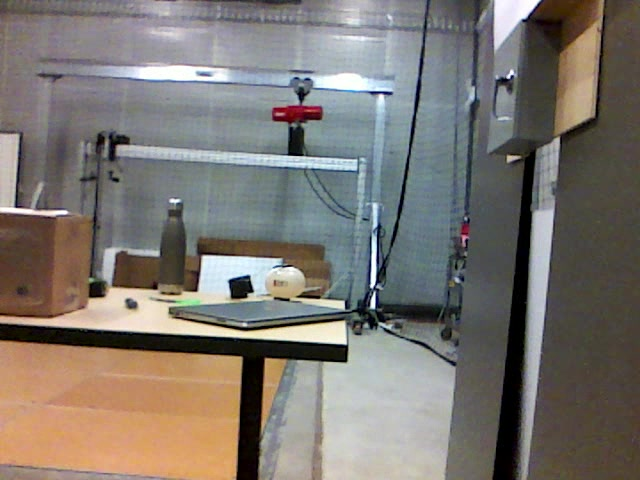box: (1, 209, 91, 324)
